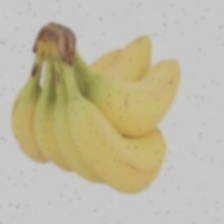banana: (52, 32, 211, 183)
